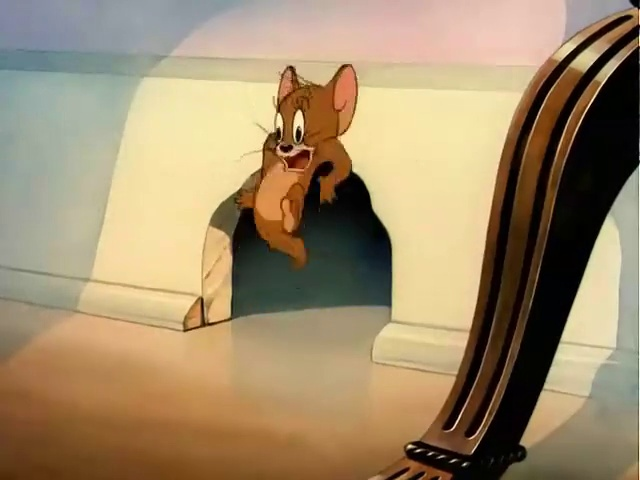jerry: (201, 55, 362, 286)
